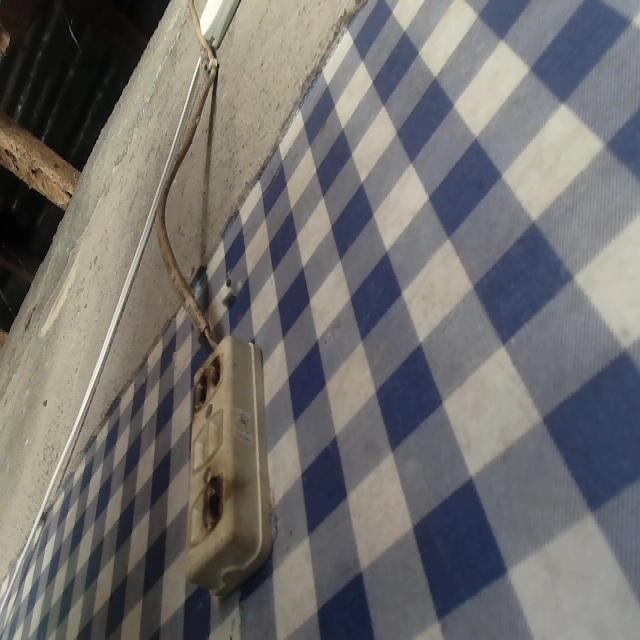-: (199, 472, 236, 539), (188, 354, 229, 414)
